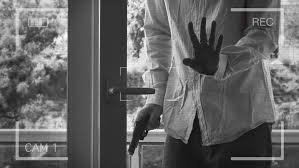gun: (123, 112, 158, 160)
